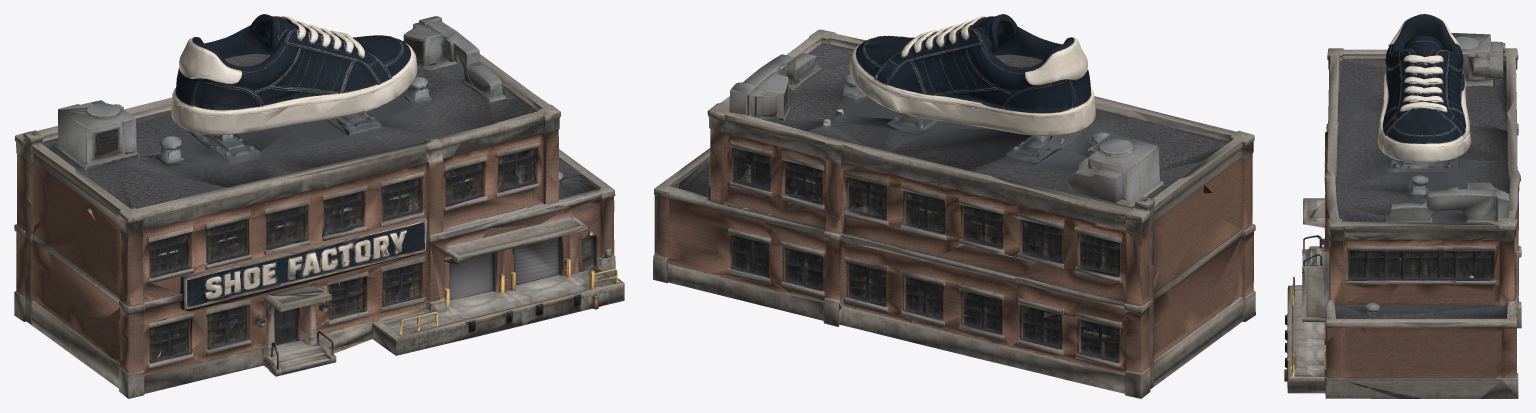
File: shoe_factory.glb
The picture shows the model from 3 angles, left to right: view 1: azimuth 30°, elevation 25°; view 2: azimuth 150°, elevation 25°; view 3: azimuth 270°, elevation 25°; orthographic projection. The views are drawn at different scales.
Visible parts, largest first — view 1: output_unwrapped; view 2: output_unwrapped; view 3: output_unwrapped.
Part boxes in pixels (x1,y1,x2,y2): output_unwrapped: (14, 14, 624, 398); output_unwrapped: (653, 14, 1255, 398); output_unwrapped: (1284, 14, 1521, 398).
Bounding box in the file's own units: 27.94 × 16 × 14.03.
1 material, 1 textured.
